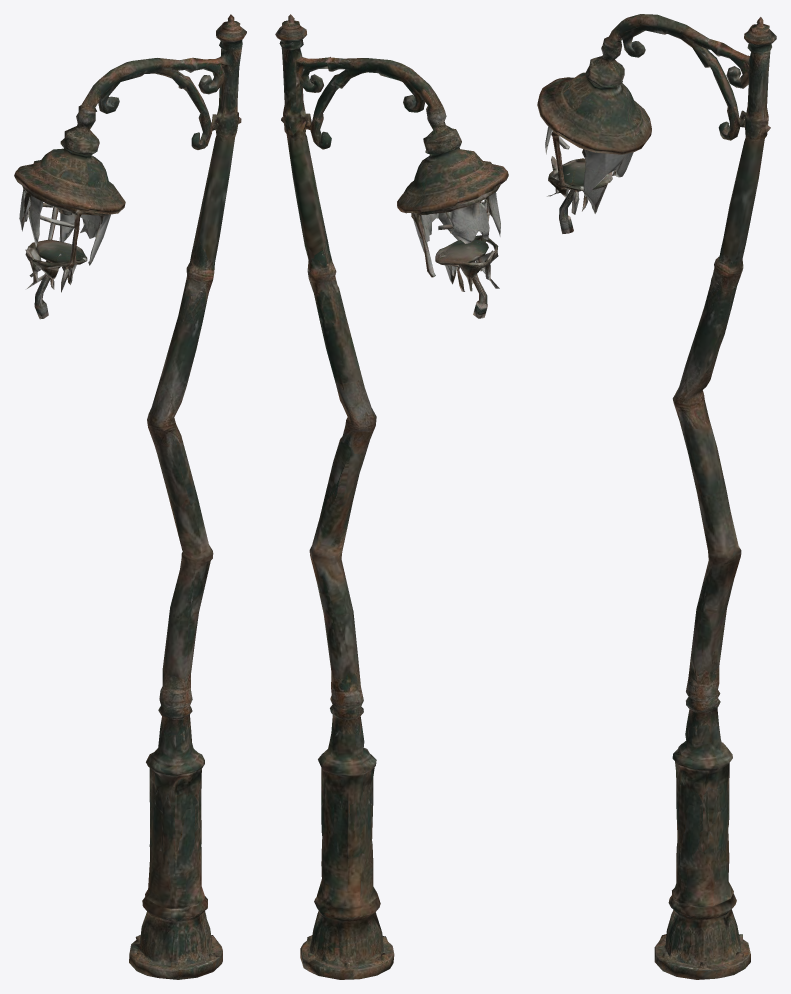
File: street_lamp_low.glb
3 renders of one model, left to right at view 1: azimuth 30°, elevation 25°; view 2: azimuth 150°, elevation 25°; view 3: azimuth 330°, elevation 25°, orthographic. The views are drawn at different scales.
Bounding box in the file's own units: 0.4733 × 1.9 × 0.21.
1 material, 1 textured.
